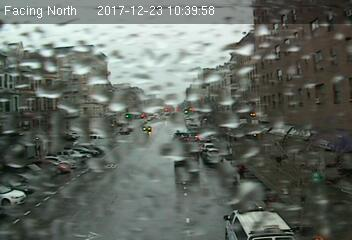car: (204, 148, 221, 163)
police: (223, 205, 292, 240)
